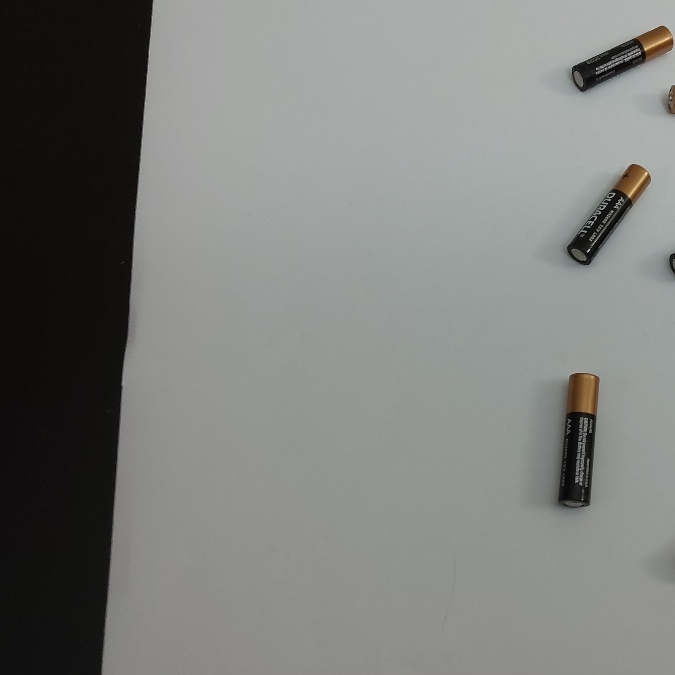battery: (567, 162, 656, 266), (568, 22, 674, 91), (554, 365, 603, 513)
